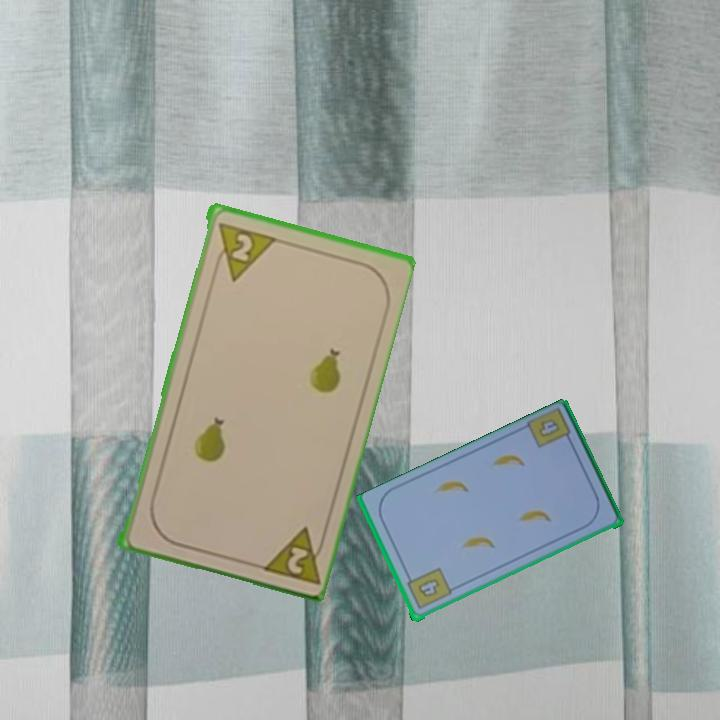2p: (255, 522, 329, 587), (211, 218, 276, 283)
4b: (403, 564, 454, 613), (523, 406, 576, 452)
